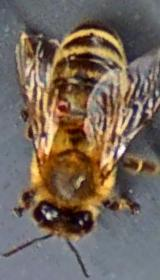varroa_mite: (45, 94, 74, 122)
